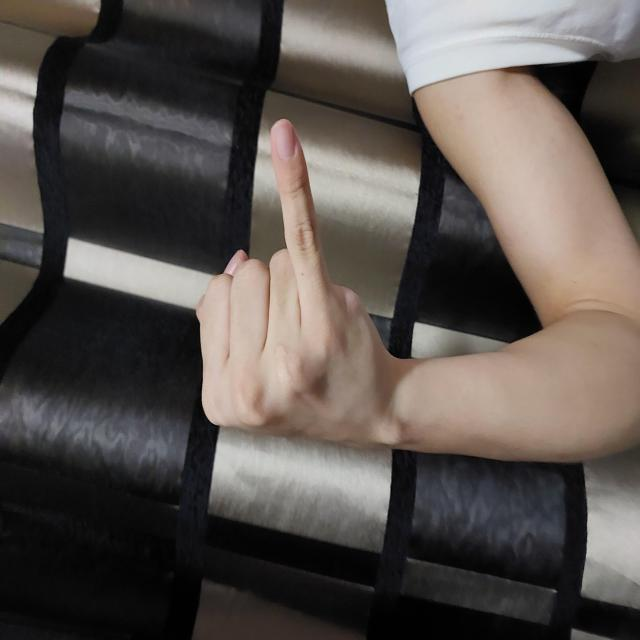J: (195, 193, 523, 394)
